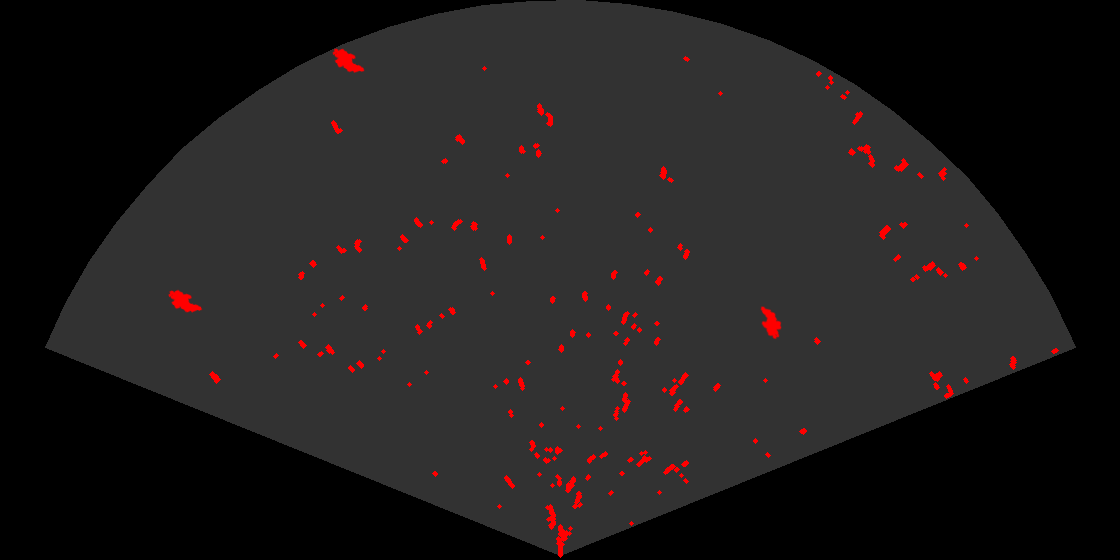AUV: (167, 288, 204, 314), (331, 47, 366, 74), (759, 305, 783, 341)
